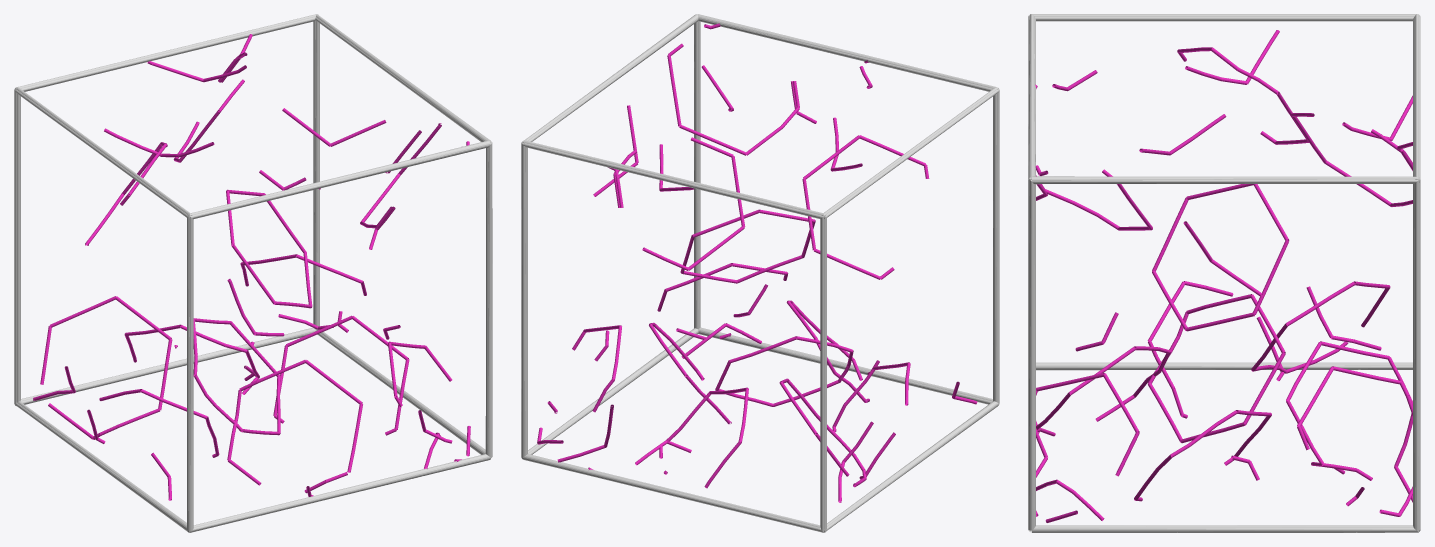
Rendered from dislocation100.glb.
3 views of the same model, side by side, from view 1: azimuth 30°, elevation 25°; view 2: azimuth 150°, elevation 25°; view 3: azimuth 270°, elevation 25° (orthographic). The views are drawn at different scales.
Visible parts, largest first — view 1: Shape_IndexedLineSet, Shape_IndexedLineSet.001; view 2: Shape_IndexedLineSet, Shape_IndexedLineSet.001; view 3: Shape_IndexedLineSet, Shape_IndexedLineSet.001.
Boxes of the visible parts, bbox=[...] form: Shape_IndexedLineSet: bbox=[14, 14, 492, 532]; Shape_IndexedLineSet.001: bbox=[33, 34, 470, 500]; Shape_IndexedLineSet: bbox=[521, 14, 999, 532]; Shape_IndexedLineSet.001: bbox=[537, 23, 977, 502]; Shape_IndexedLineSet: bbox=[1028, 14, 1420, 532]; Shape_IndexedLineSet.001: bbox=[1035, 30, 1413, 522].
Bounding box in the file's own units: 1.02 × 1.02 × 1.02.
